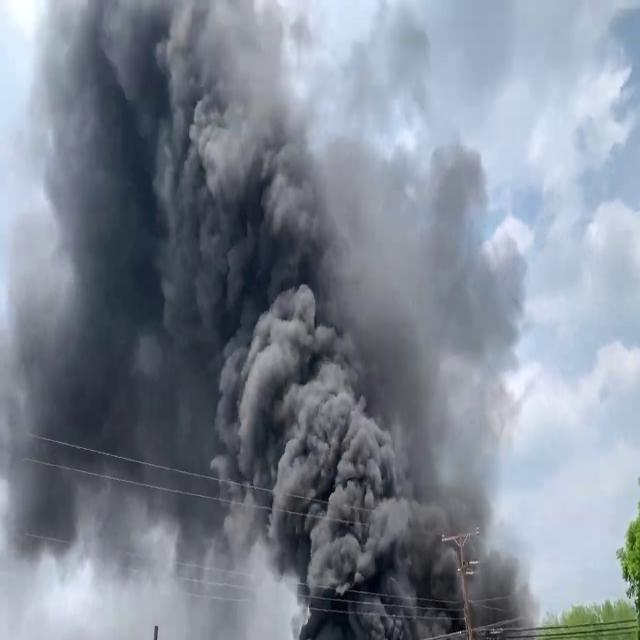Smoke: (0, 1, 636, 622)
